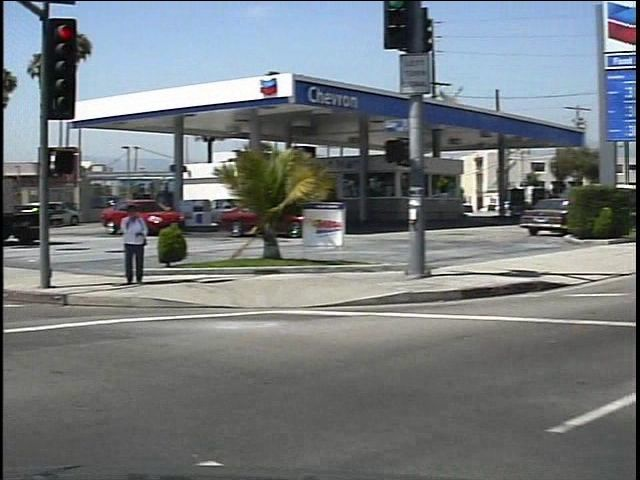person: (109, 201, 143, 291)
